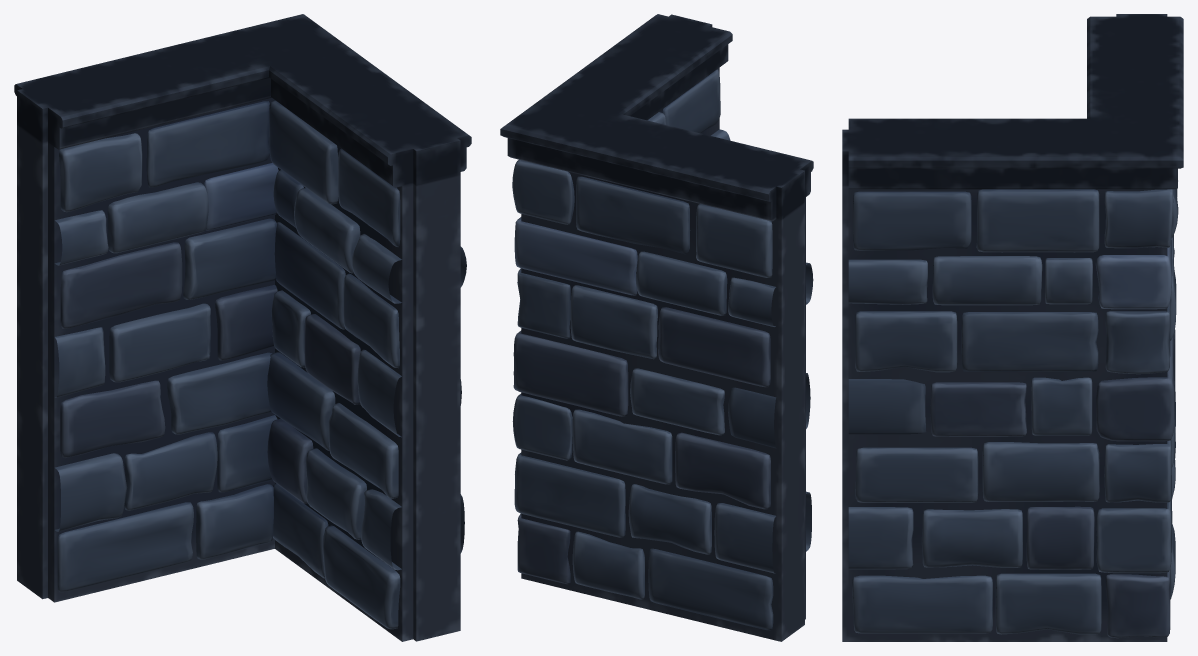
Rendered from WallCorner.fbx.
3 renders of one model, left to right at view 1: azimuth 30°, elevation 25°; view 2: azimuth 150°, elevation 25°; view 3: azimuth 270°, elevation 25°, orthographic. The views are drawn at different scales.
Parts seen in each view (by area): view 1: WallCornerTileB; view 2: WallCornerTileB; view 3: WallCornerTileB.
Boxes of the visible parts, left/top/right/bottom form: WallCornerTileB: left=14, top=14, right=471, bottom=641; WallCornerTileB: left=500, top=14, right=813, bottom=641; WallCornerTileB: left=842, top=14, right=1183, bottom=641.
Size of the model in its own units: 2.68 by 4.25 by 2.68.
